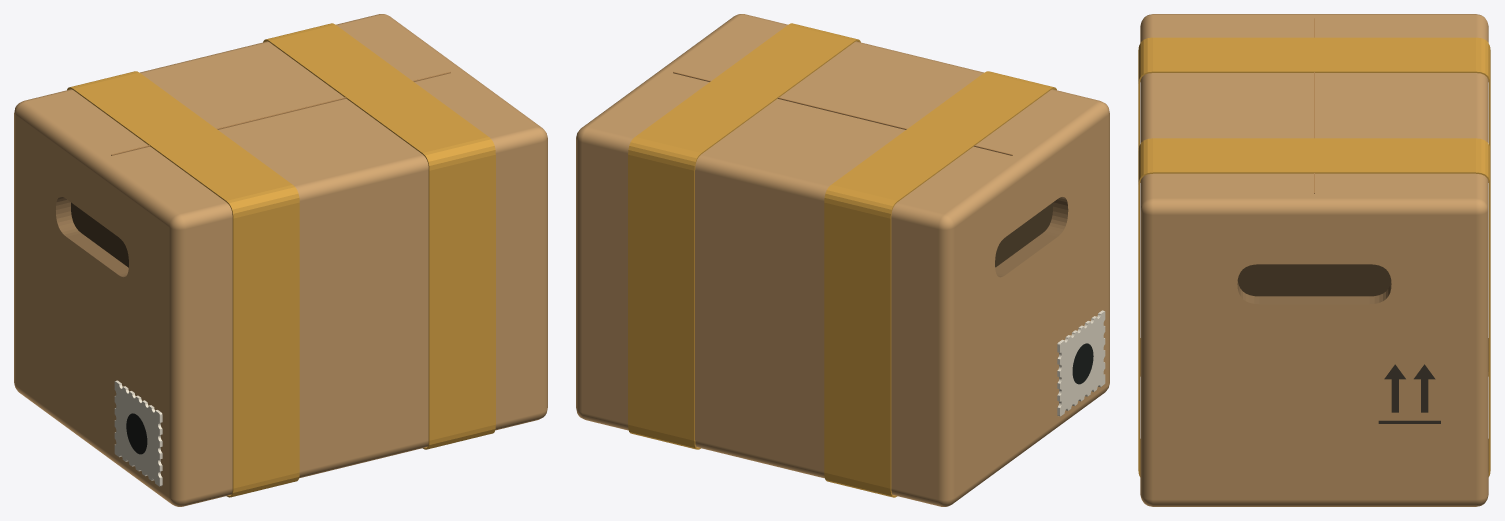
File: play-parcel-large-yellow.glb
3 views of the same model, side by side, from view 1: azimuth 30°, elevation 25°; view 2: azimuth 150°, elevation 25°; view 3: azimuth 270°, elevation 25° (orthographic). The views are drawn at different scales.
Visible parts, largest first — view 1: Parcel_Carton, Parcel_Tape_Parallel_1, Parcel_Tape_Parallel_2, Parcel_Paper_Label, Parcel_Carry_Slot_Walls_Negative_X, Parcel_Carry_Slot_Interior_Negative_X, Parcel_Label_Circle; view 2: Parcel_Carton, Parcel_Tape_Parallel_1, Parcel_Tape_Parallel_2, Parcel_Paper_Label, Parcel_Carry_Slot_Walls_Negative_X, Parcel_Carry_Slot_Interior_Negative_X, Parcel_Label_Circle; view 3: Parcel_Carton, Parcel_Tape_Parallel_2, Parcel_Tape_Parallel_1, Parcel_Carry_Slot_Interior_Positive_X, Parcel_Carry_Slot_Walls_Positive_X, Parcel_Up_Arrows_Positive_X.
Boxes of the visible parts, x1,y1,x2,y2 form: Parcel_Carton: (14,14,547,506); Parcel_Tape_Parallel_1: (67,71,299,497); Parcel_Tape_Parallel_2: (263,23,495,449); Parcel_Paper_Label: (114,380,162,486); Parcel_Carry_Slot_Walls_Negative_X: (56,196,128,277); Parcel_Carry_Slot_Interior_Negative_X: (71,202,128,267); Parcel_Label_Circle: (126,413,147,454); Parcel_Carton: (576,14,1109,506); Parcel_Tape_Parallel_1: (824,71,1056,497); Parcel_Tape_Parallel_2: (628,23,860,449); Parcel_Paper_Label: (1057,310,1105,416); Parcel_Carry_Slot_Walls_Negative_X: (995,197,1068,277); Parcel_Carry_Slot_Interior_Negative_X: (995,202,1052,267); Parcel_Label_Circle: (1072,343,1093,384); Parcel_Carton: (1140,14,1488,506); Parcel_Tape_Parallel_2: (1138,138,1490,476); Parcel_Tape_Parallel_1: (1138,37,1490,376); Parcel_Carry_Slot_Interior_Positive_X: (1237,264,1391,296); Parcel_Carry_Slot_Walls_Positive_X: (1237,281,1391,304); Parcel_Up_Arrows_Positive_X: (1378,364,1440,423).
Bounding box in the file's own units: 0.2526 × 0.187 × 0.192.
